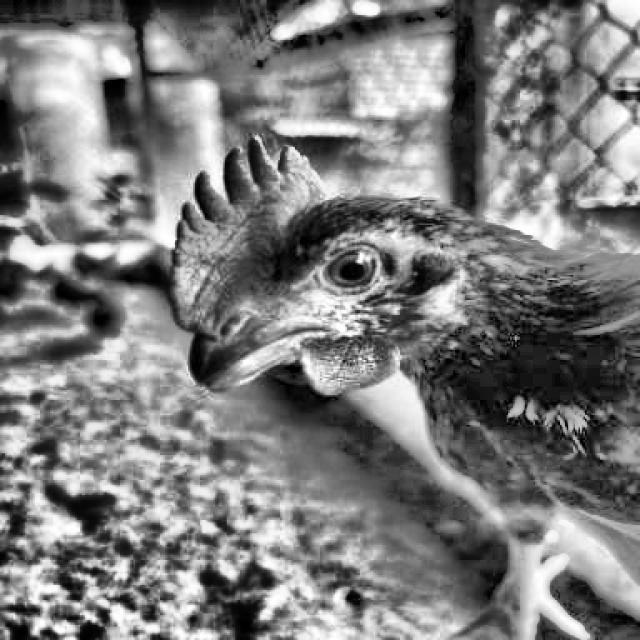Healthy: (294, 224, 398, 314)
